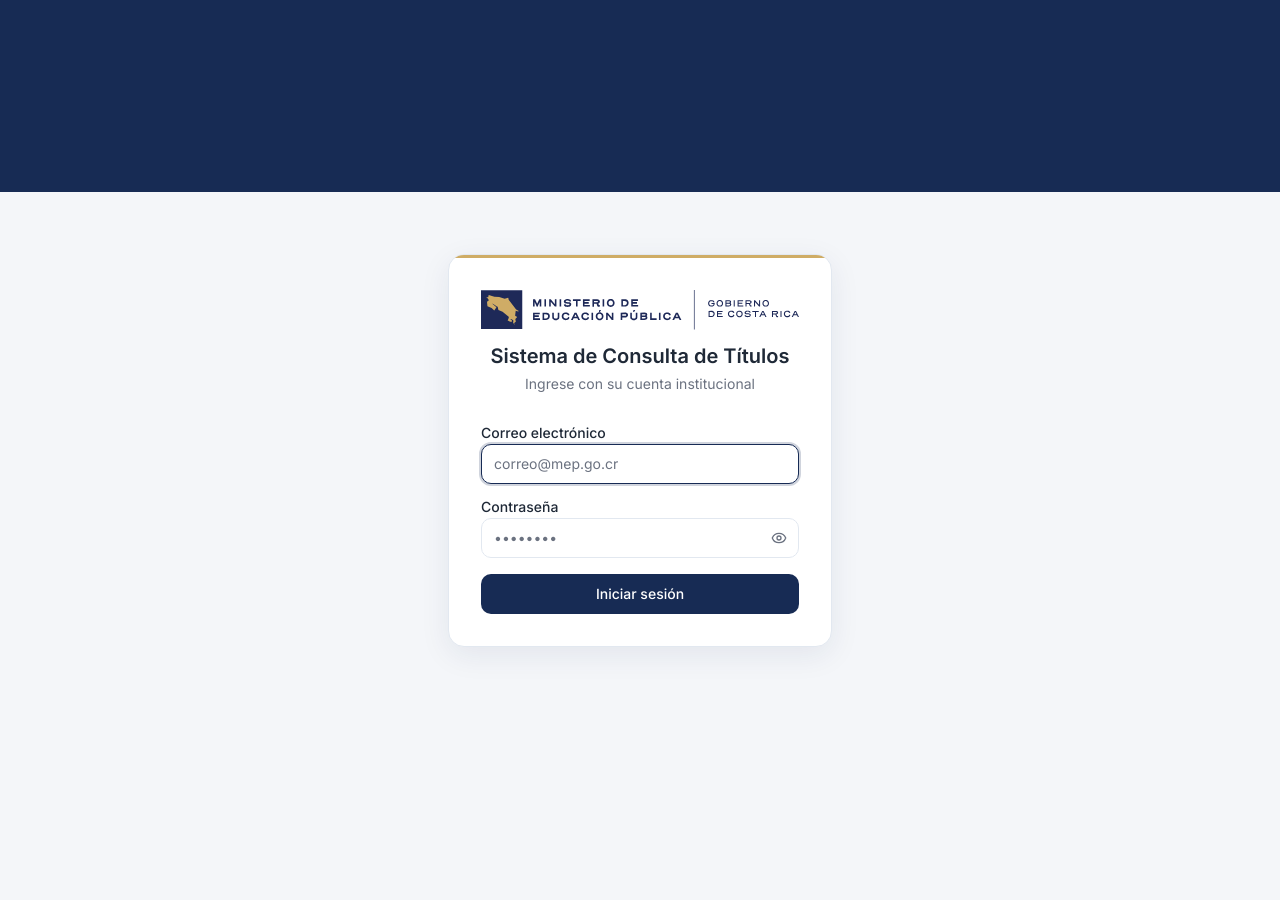
Iniciar sesión › informa credenciales inválidas
This screenshot has width=1280, height=900.
Type "a@mep.go.cr" into the field labelled "Correo electrónico" at (640, 464), box [481, 444, 799, 484]
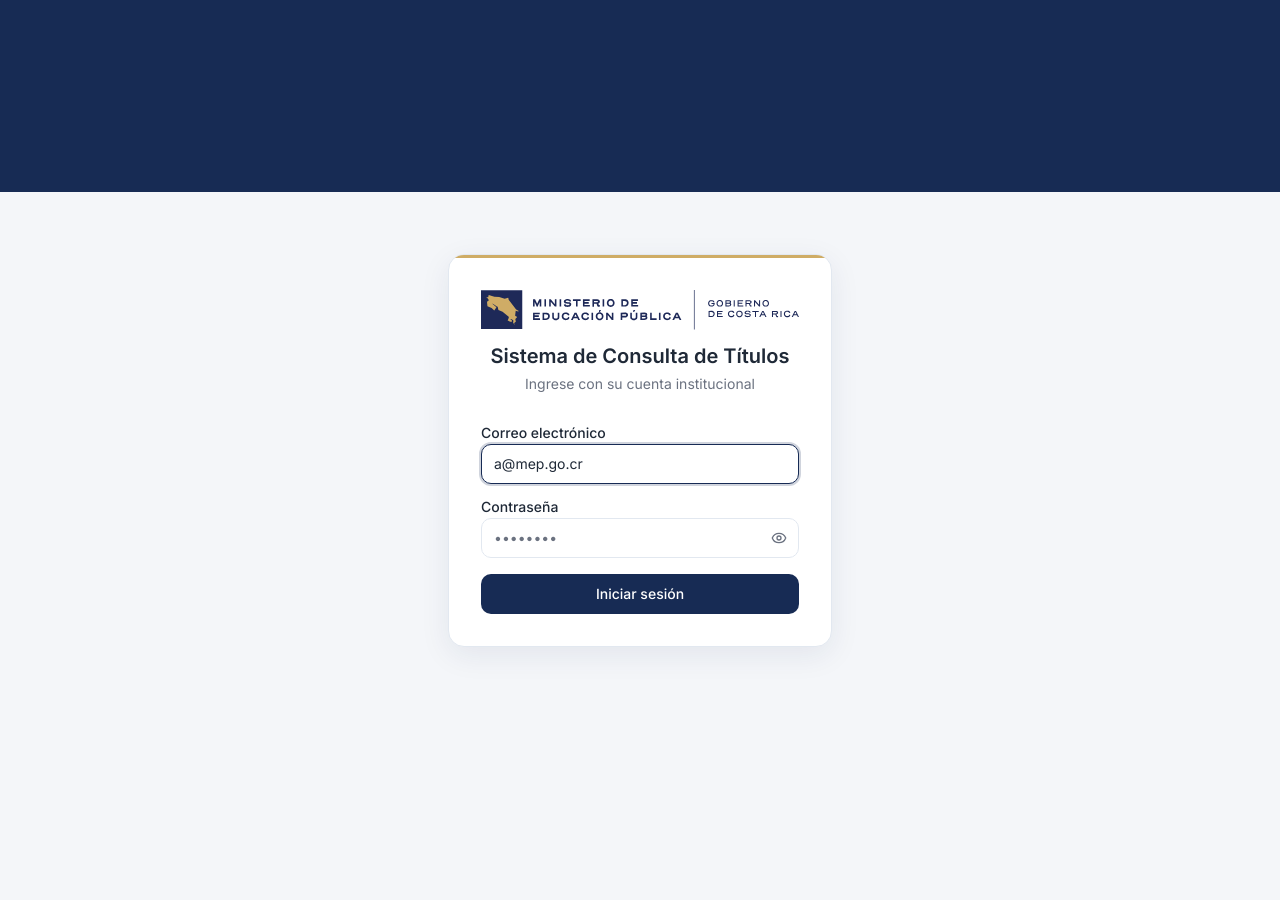
Type "mala" into the password field labelled "Contraseña" at (640, 538), box [481, 518, 799, 558]
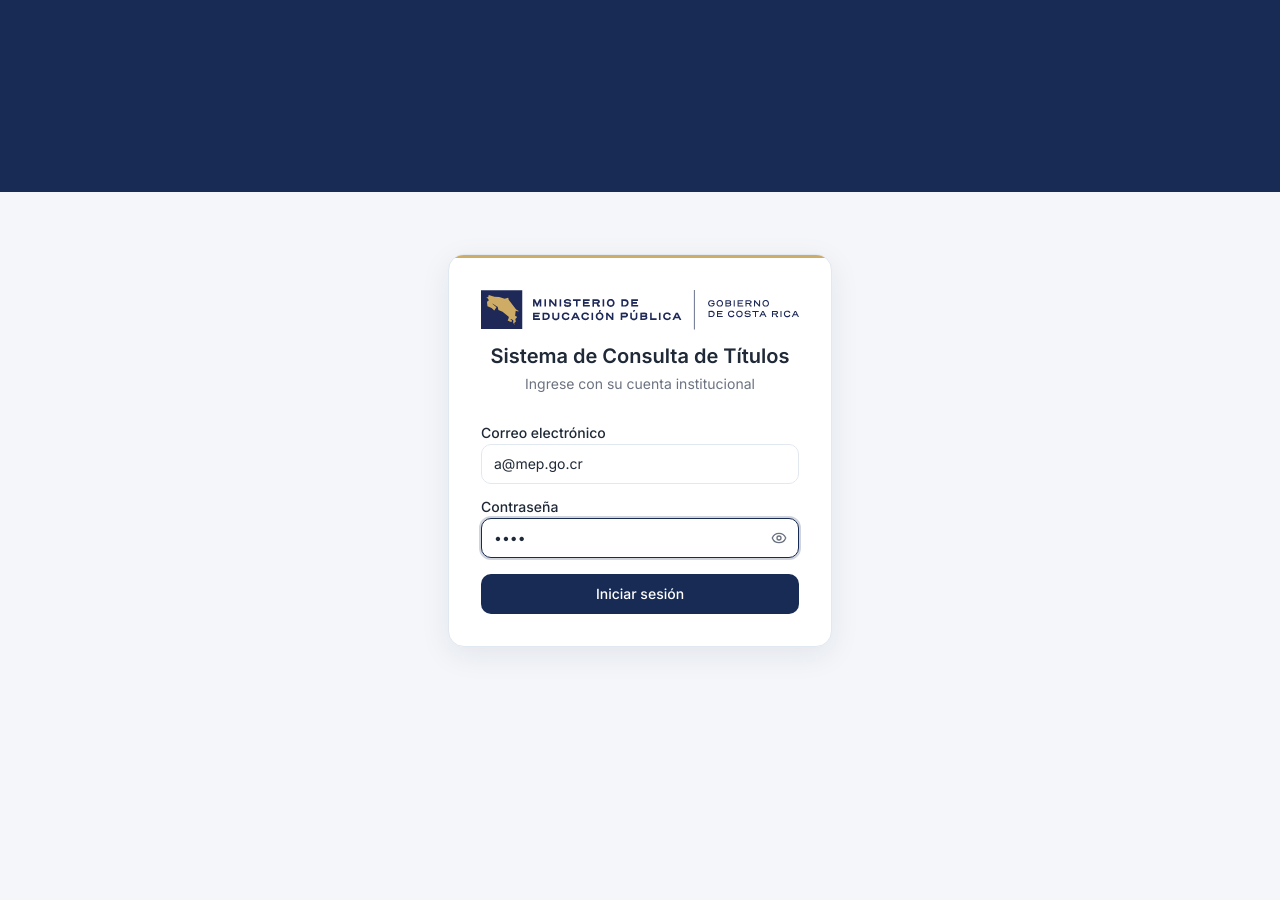
Click the button "Iniciar sesión" at (640, 594), box [481, 574, 799, 614]
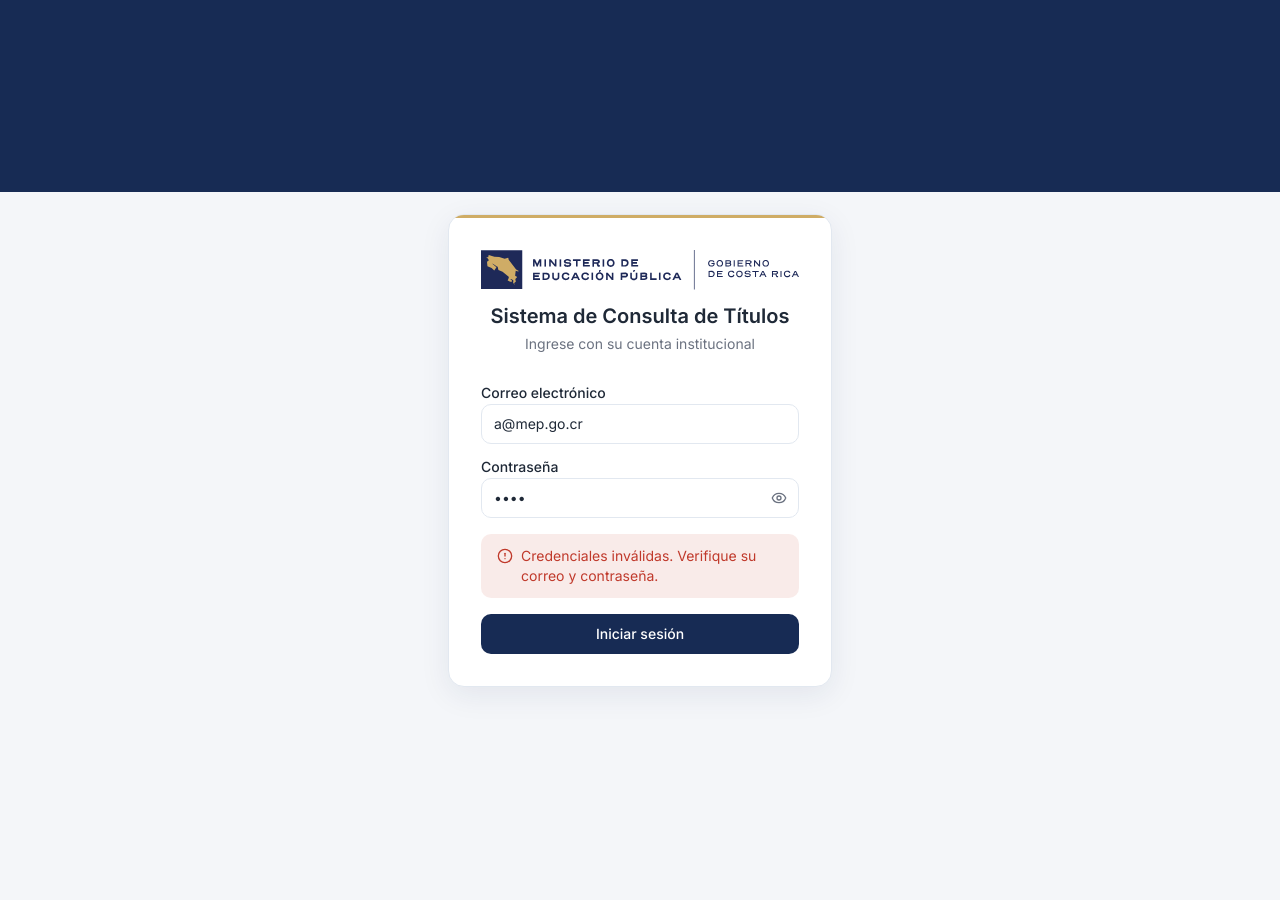
Now the message shows "Credenciales inválidas", box [521, 546, 756, 584]
